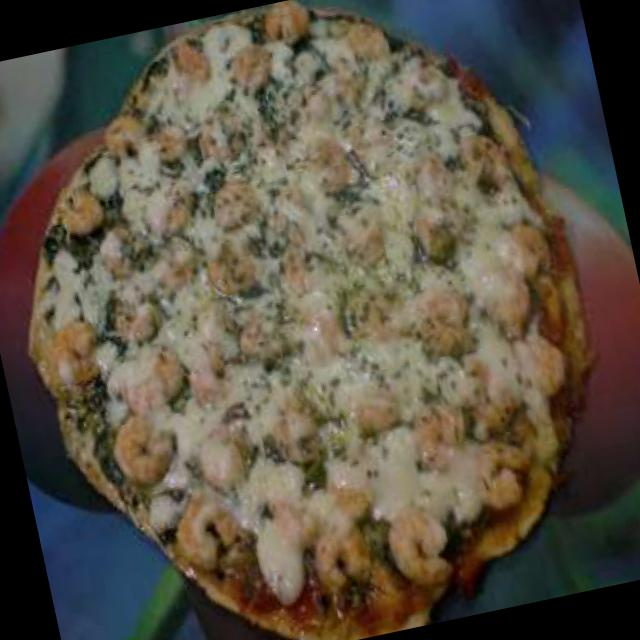camarao: (378, 498, 462, 595), (170, 489, 250, 577), (108, 403, 186, 490), (306, 512, 378, 596), (46, 317, 112, 385), (51, 178, 107, 240), (255, 0, 321, 50), (100, 110, 146, 162)
pizza: (0, 0, 639, 639)
